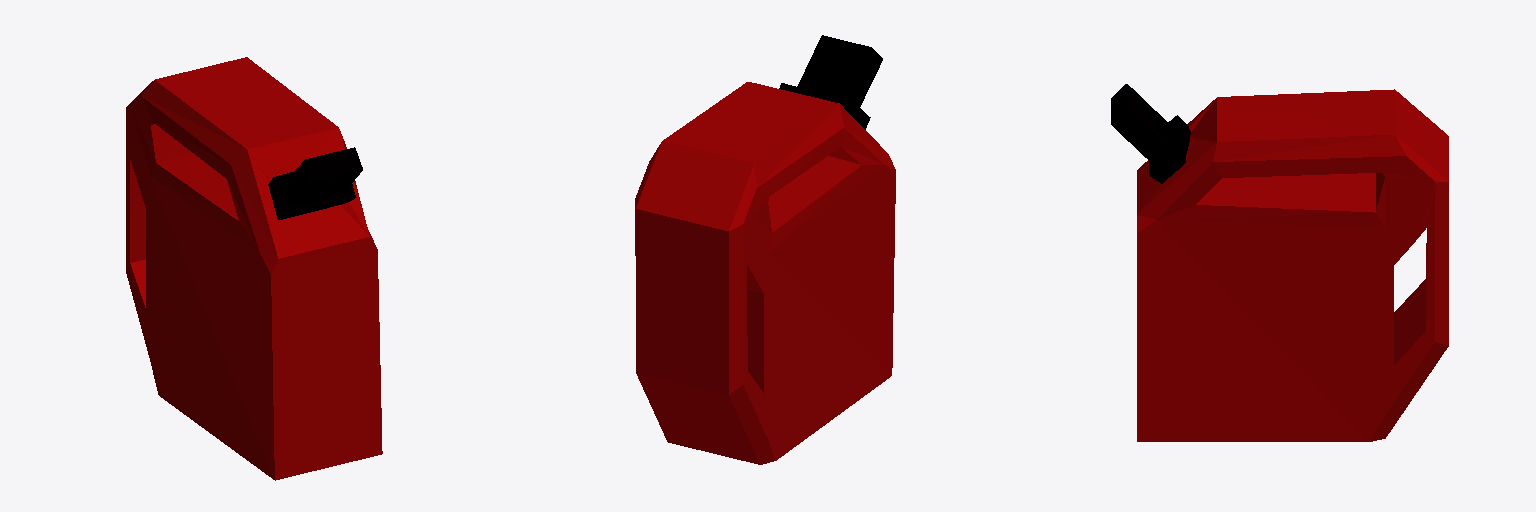
File: gasTankShadered.obj
3 renders of one model, left to right at view 1: azimuth 30°, elevation 25°; view 2: azimuth 150°, elevation 25°; view 3: azimuth 270°, elevation 25°, orthographic.
Parts seen in each view (by area): view 1: Cube.001; view 2: Cube.001; view 3: Cube.001.
Boxes of the visible parts, <box> form: Cube.001: <box>126,57,382,480</box>; Cube.001: <box>635,35,895,464</box>; Cube.001: <box>1111,84,1448,441</box>.
Bounding box in the file's own units: 2.1 × 5.66 × 5.45.